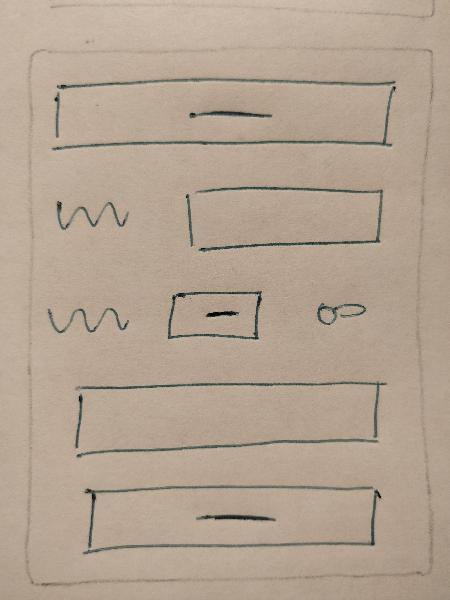button: (46, 74, 401, 159), (70, 479, 390, 562), (159, 282, 272, 350)
switch: (301, 284, 373, 336)
text: (45, 189, 138, 237), (43, 292, 135, 339)
text_input: (63, 372, 396, 461), (175, 178, 391, 258)
